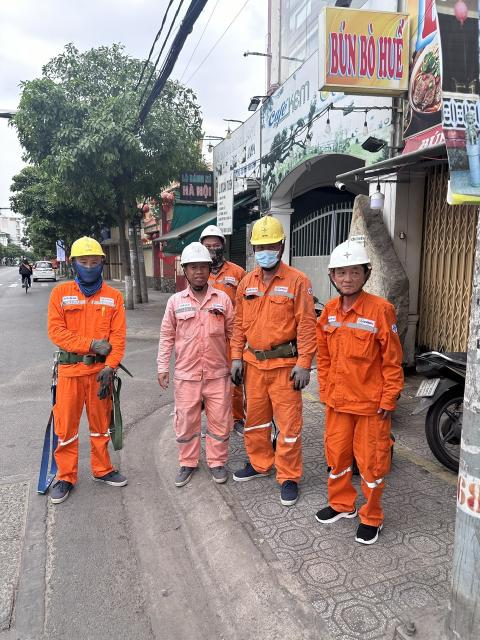gloves: (280, 363, 316, 393), (91, 361, 117, 401), (86, 334, 114, 361), (230, 359, 248, 388)
harness: (236, 338, 303, 368), (48, 348, 110, 373)
helmet: (322, 235, 373, 274), (248, 209, 289, 251), (61, 231, 109, 264), (173, 242, 217, 270), (199, 228, 229, 242)
shoes: (349, 505, 384, 550), (37, 471, 81, 504), (311, 499, 355, 531), (271, 475, 305, 515), (230, 458, 268, 483), (88, 464, 125, 489), (171, 457, 196, 488), (210, 460, 230, 488)
